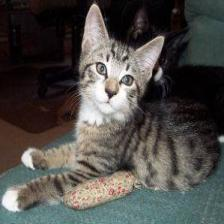cat: (76, 2, 166, 120)
